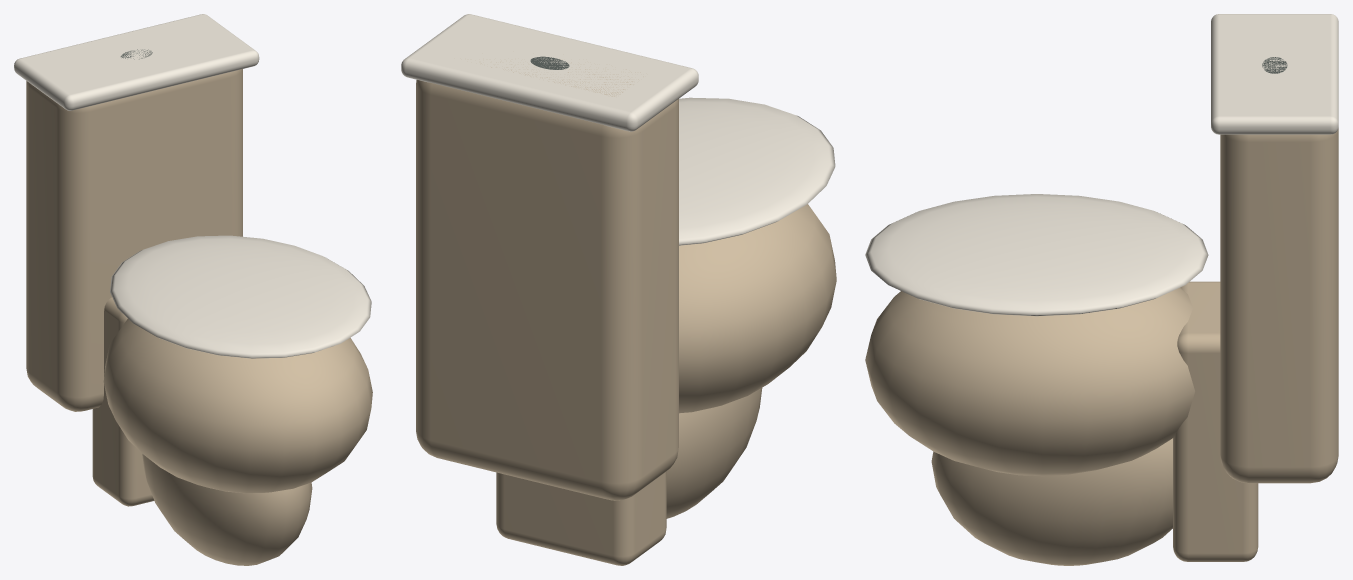
3 renders of one model, left to right at view 1: azimuth 30°, elevation 25°; view 2: azimuth 150°, elevation 25°; view 3: azimuth 270°, elevation 25°, orthographic. The views are drawn at different scales.
Visible parts, largest first — view 1: tank, bowl, seat_lid, tank_lid, pedestal, cistern_bridge; view 2: tank, bowl, tank_lid, seat_lid, cistern_bridge, pedestal; view 3: bowl, tank, seat_lid, pedestal, tank_lid, cistern_bridge.
Boxes of the visible parts, box(x1,y1,x2,y2) form: tank: box(26, 69, 242, 411); bowl: box(103, 319, 372, 493); seat_lid: box(110, 235, 371, 358); tank_lid: box(14, 14, 259, 110); pedestal: box(142, 454, 312, 565); cistern_bridge: box(92, 297, 154, 506); tank: box(416, 62, 678, 500); bowl: box(679, 204, 836, 413); tank_lid: box(401, 14, 698, 131); seat_lid: box(679, 97, 835, 245); cistern_bridge: box(496, 471, 666, 565); pedestal: box(666, 388, 762, 518); bowl: box(865, 287, 1194, 476); tank: box(1220, 128, 1338, 483); seat_lid: box(865, 194, 1208, 316); pedestal: box(931, 438, 1172, 565); tank_lid: box(1211, 14, 1338, 134); cistern_bridge: box(1173, 281, 1258, 561).
Size of the model in its own units: 0.4 by 0.75 by 0.65.
